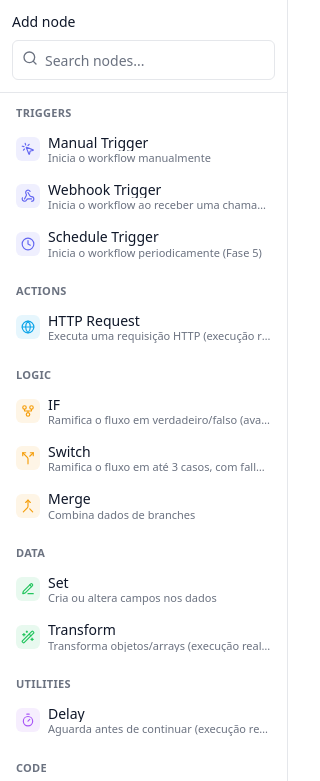
Test: <NodeLibrary /> › a busca filtra sem esvaziar a lista
This screenshot has width=320, height=781.
Type "set" into the field with placeholder "Search nodes..." at [144, 60], box [12,40,275,80]
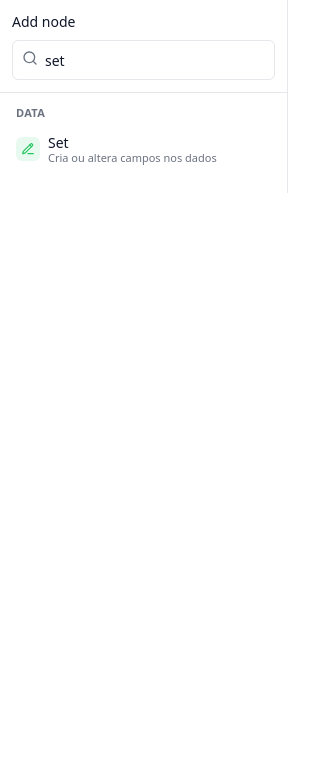
expect the text "Set" is shown: met, box [48,132,69,152]
expect the button "Manual Trigger" is gone: met
